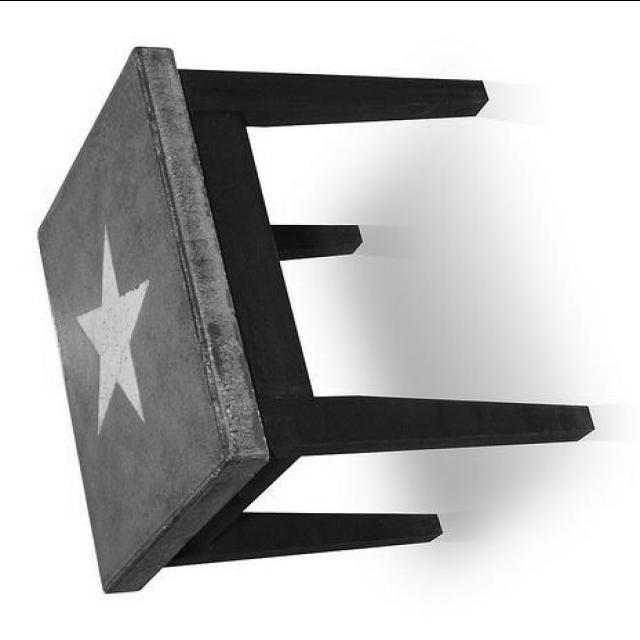table: (39, 46, 594, 591)
